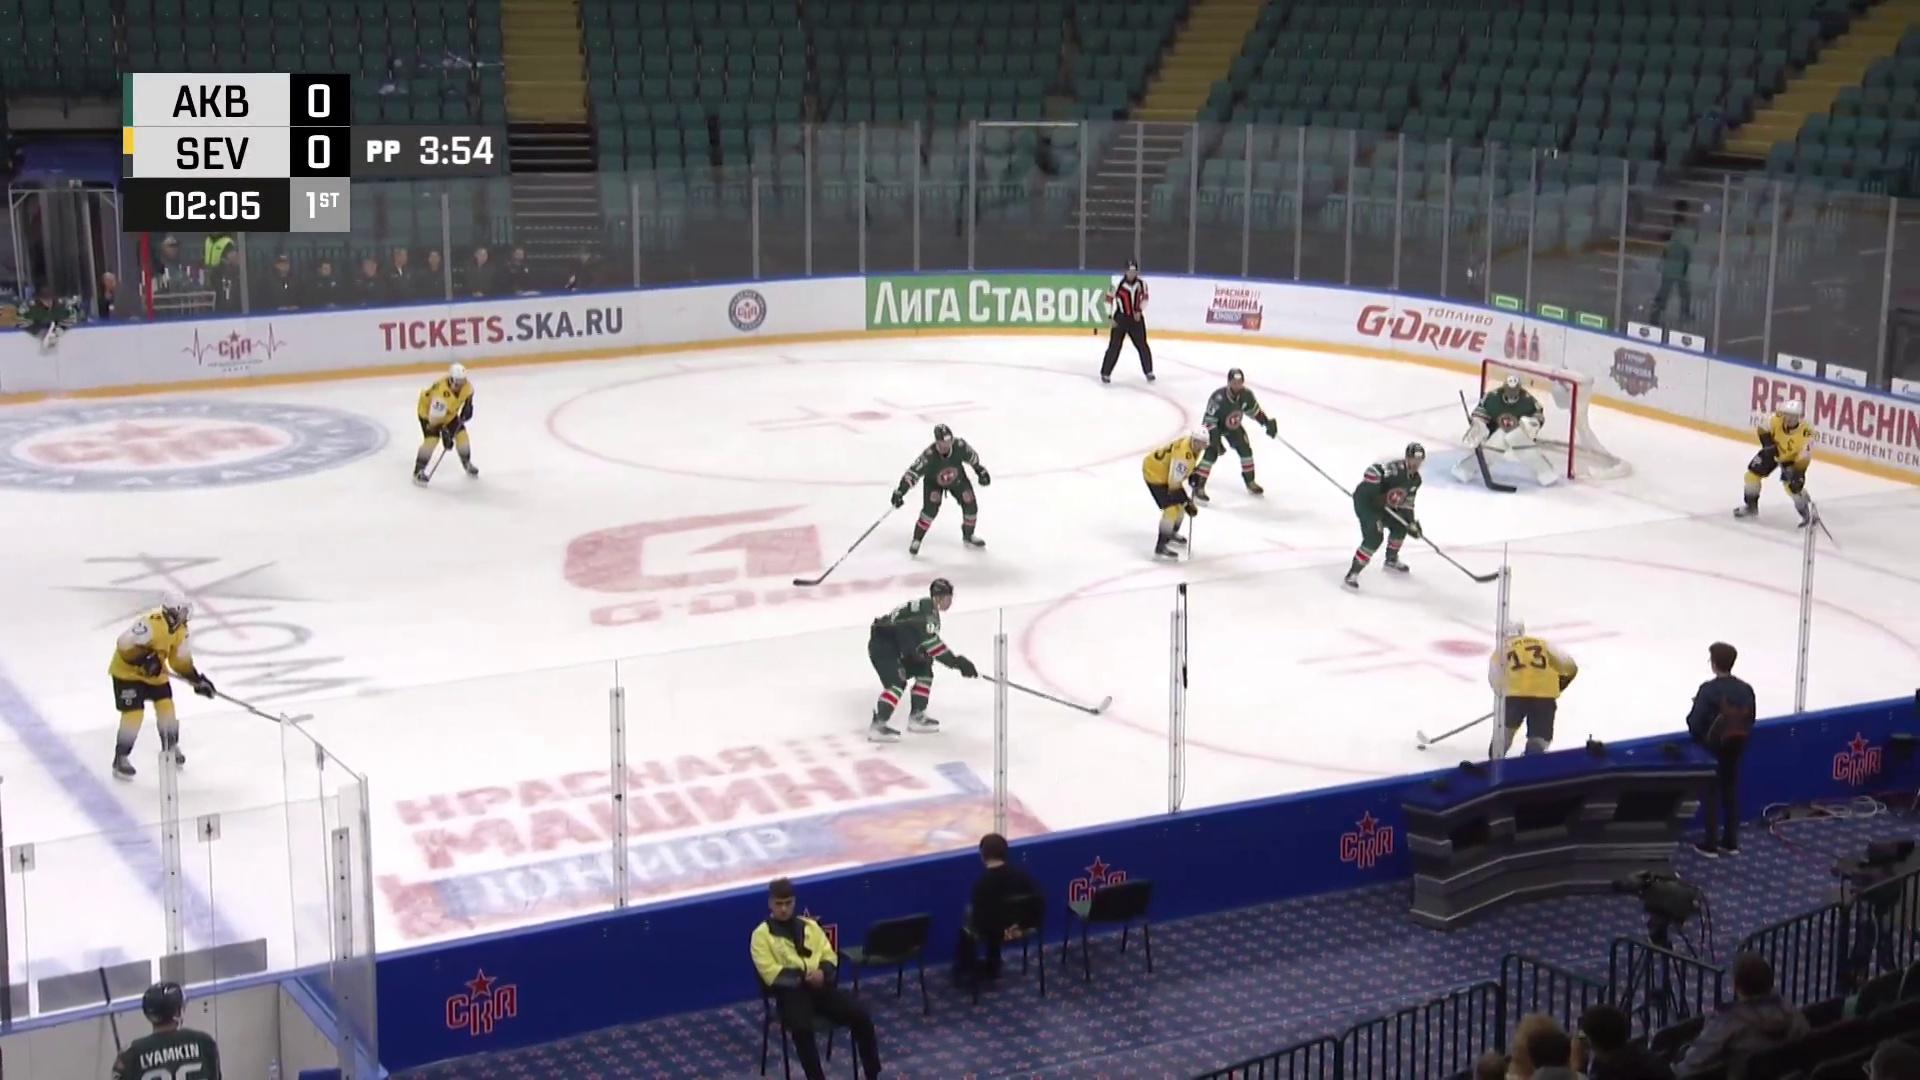ball: (1416, 744, 1428, 752)
